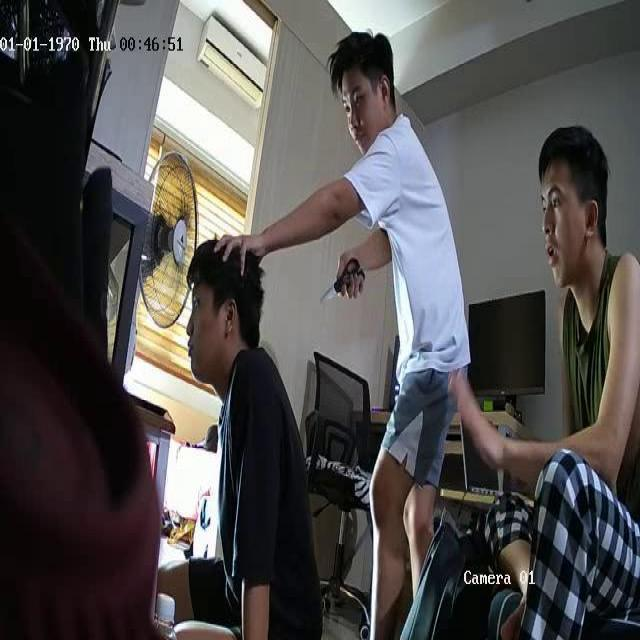scissor: (322, 259, 367, 306)
